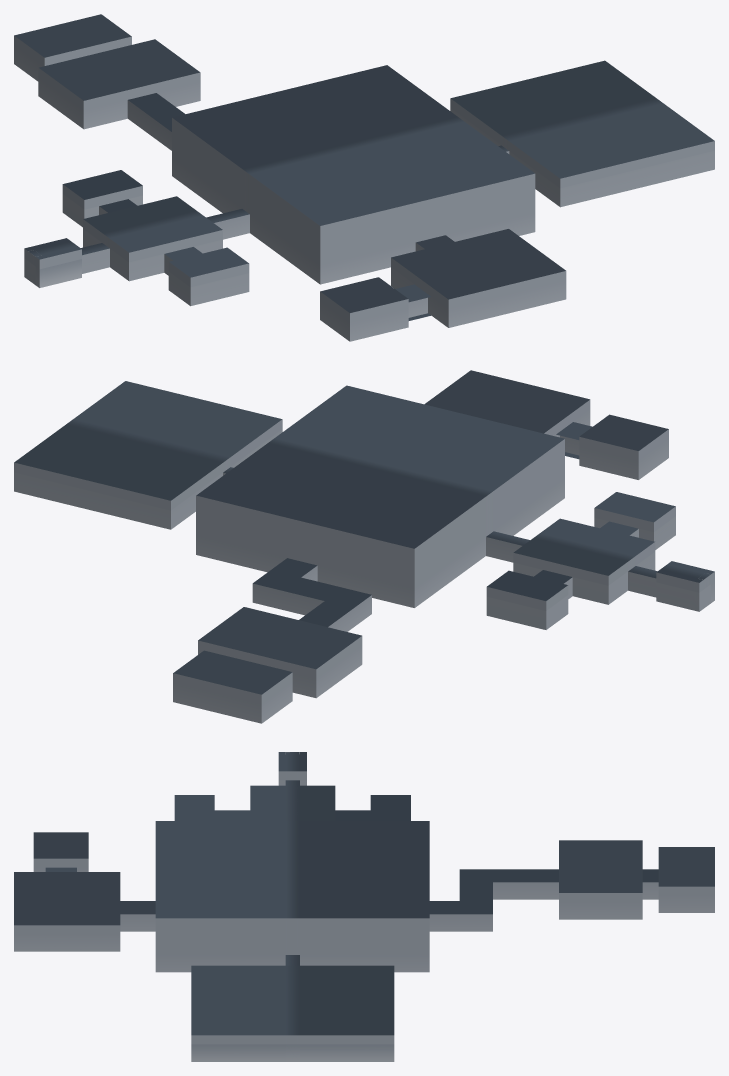
Rendered from map - Copie.fbx.
3 views of the same model, one above another, from view 1: azimuth 30°, elevation 25°; view 2: azimuth 150°, elevation 25°; view 3: azimuth 270°, elevation 25° (orthographic). The views are drawn at different scales.
Visible parts, largest first — view 1: plafond, murs; view 2: plafond, murs; view 3: plafond, murs.
Part boxes in pixels (box(x1,y1,x2,y2)): plafond: box(14, 14, 714, 312); murs: box(14, 36, 714, 341); plafond: box(14, 370, 714, 694); murs: box(14, 400, 714, 723); plafond: box(14, 752, 714, 1035); murs: box(14, 771, 714, 1061).
Bounding box in the file's own units: 12539 × 1116 × 13112.
1 material, 1 textured.
